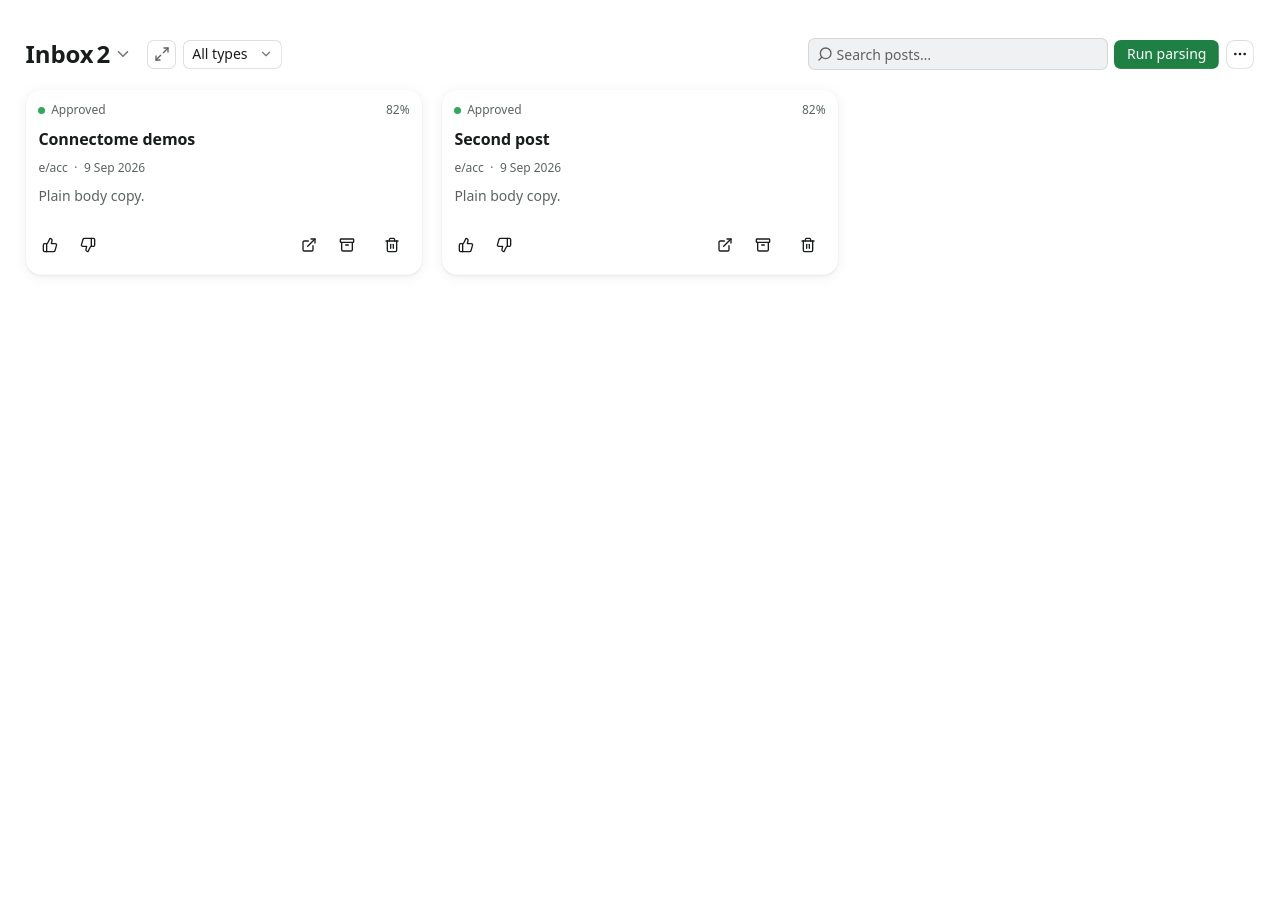
Test: mode routing › closes an open peek when the mode switches back to full page
Click the button named "side panel" at coordinates (162, 54), box [148, 40, 176, 69]
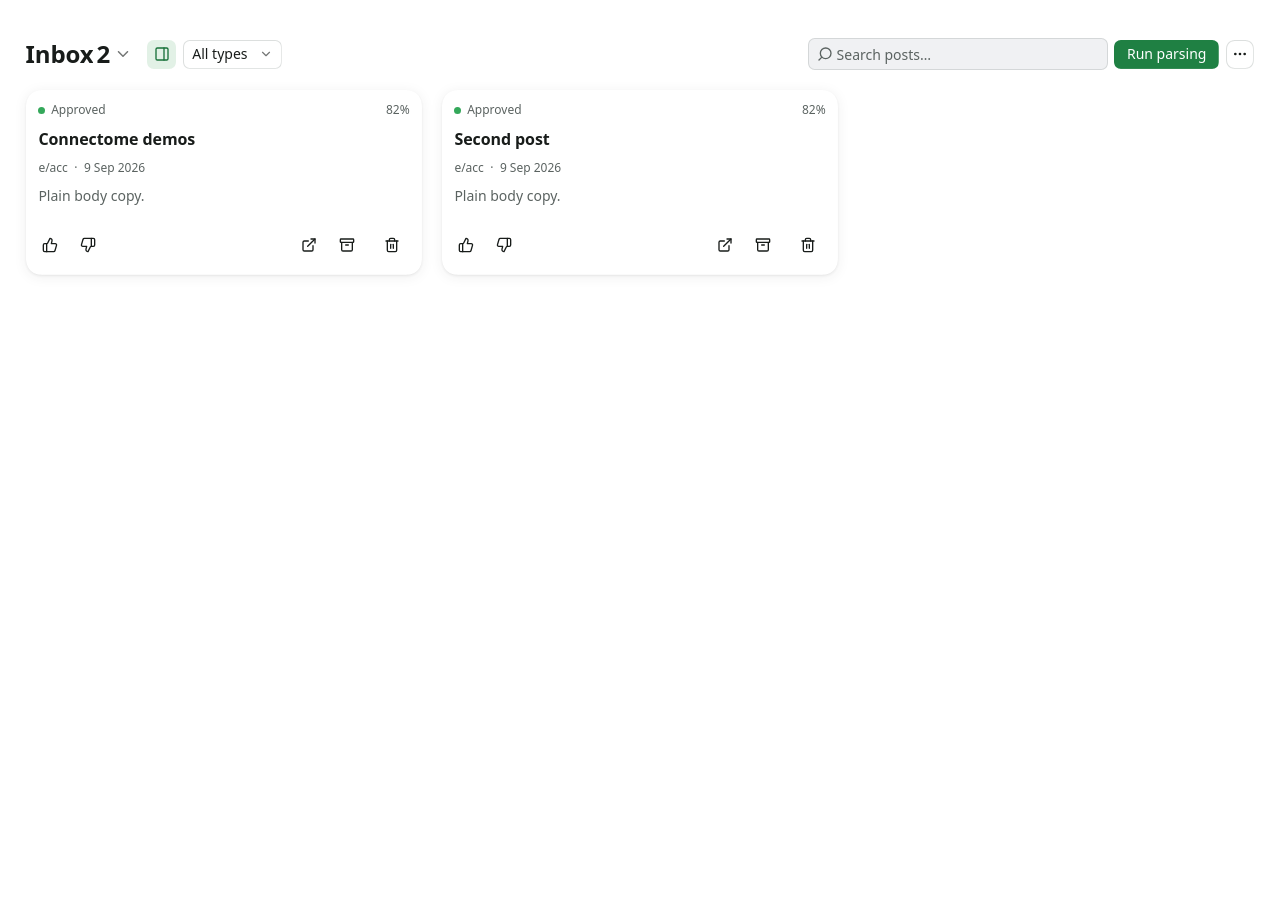
Click the button "Connectome demos" at coordinates (78, 110), box [26, 90, 422, 275]
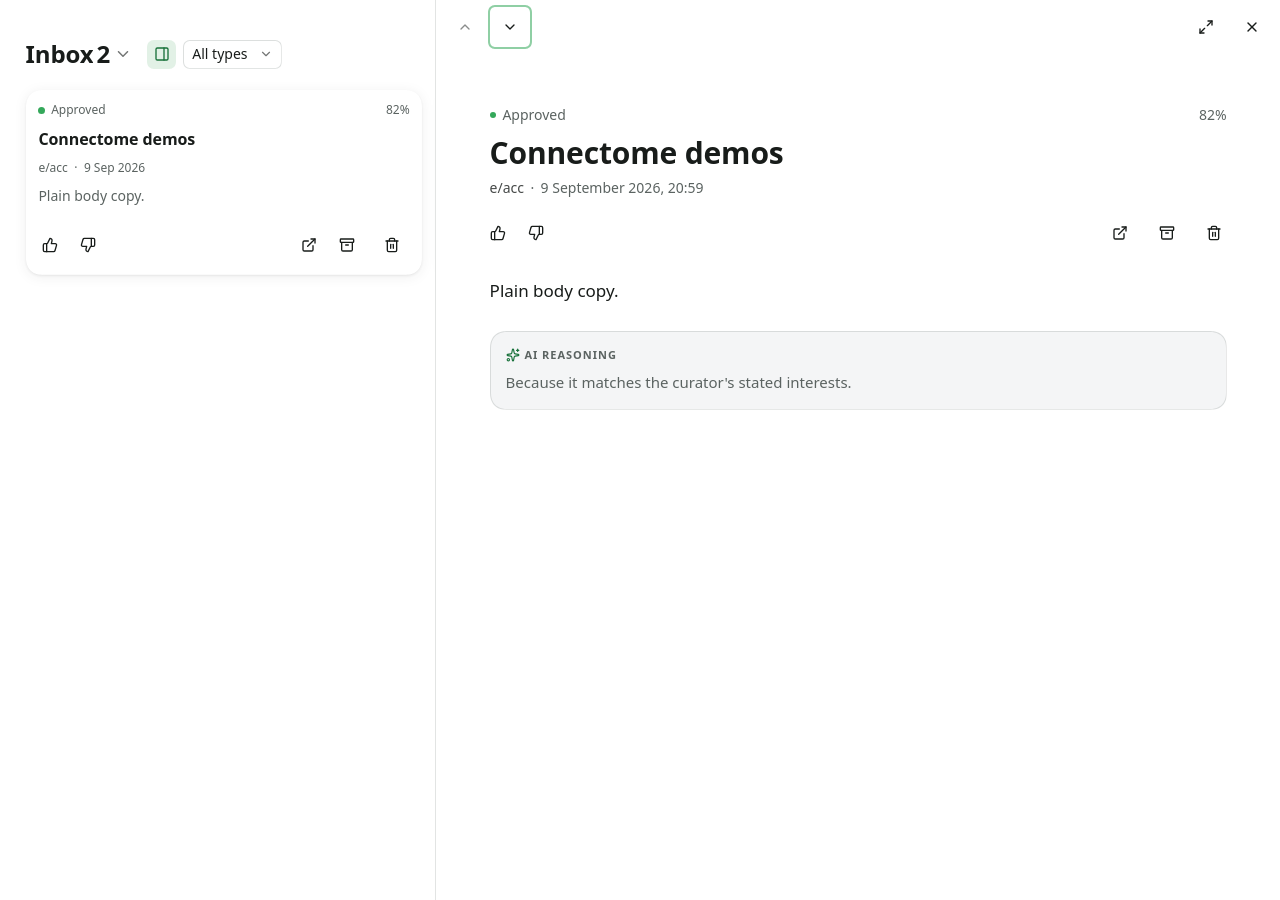
Result: the dialog is shown
Click the button named "side panel" at coordinates (162, 54), box [148, 40, 176, 69]
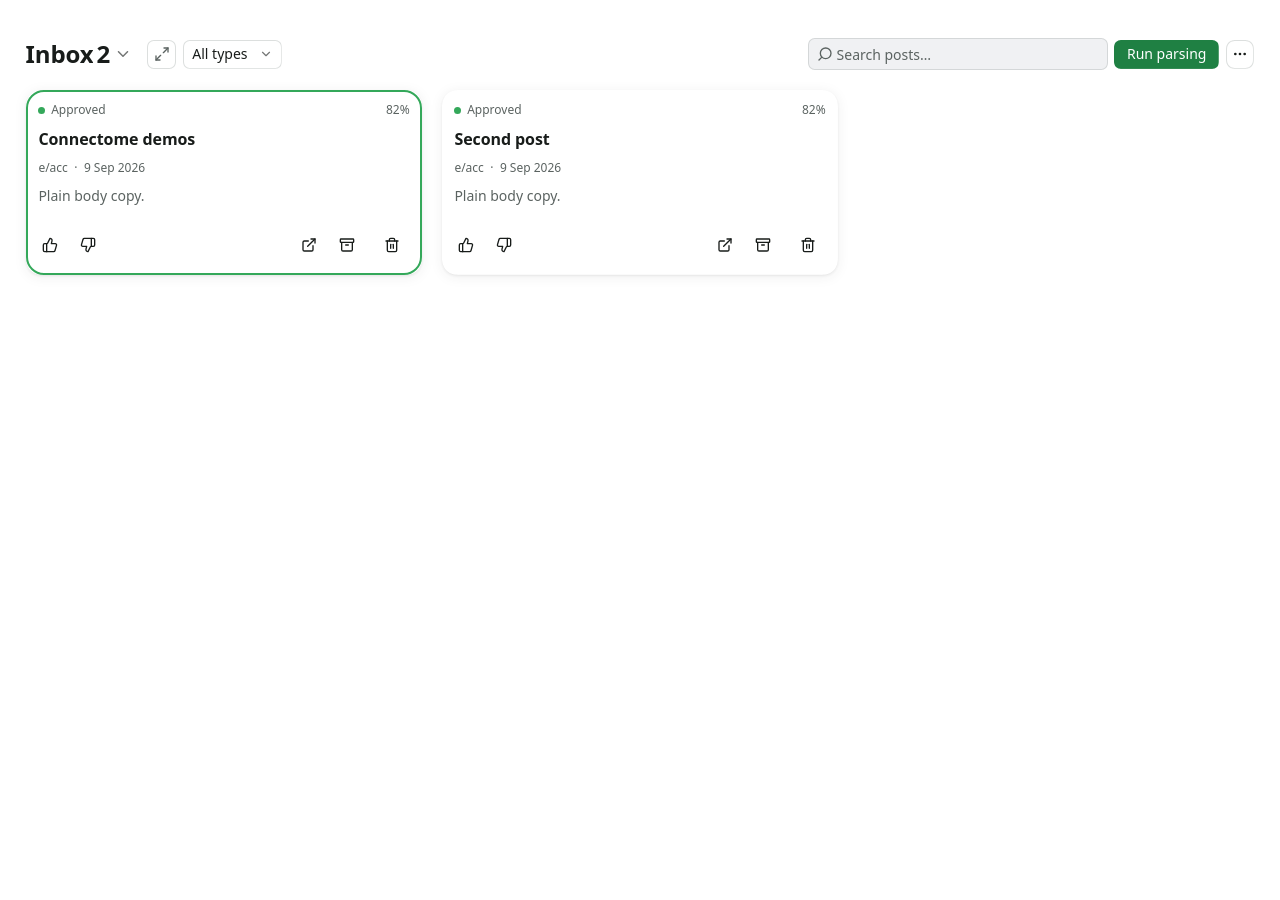
Result: the dialog is gone
